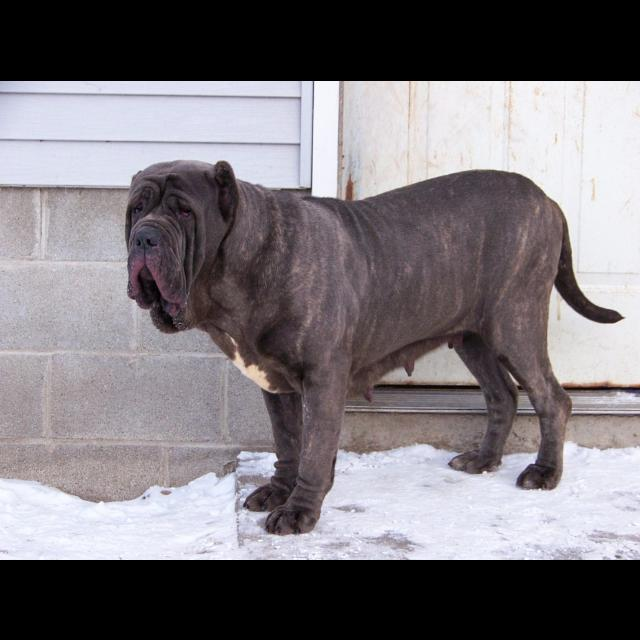mastino_napoletano: (125, 158, 626, 536)
